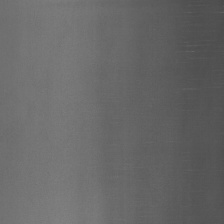waist_folding: (128, 9, 224, 127)
